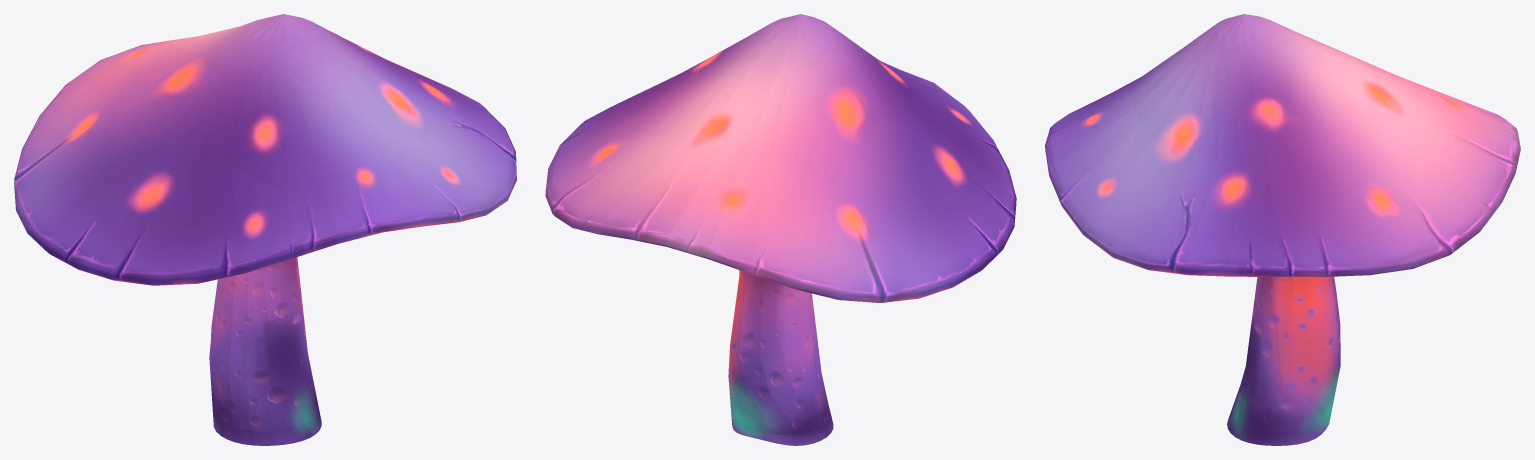
The model's file is mushroom-far.glb.
3 renders of one model, left to right at view 1: azimuth 30°, elevation 25°; view 2: azimuth 150°, elevation 25°; view 3: azimuth 270°, elevation 25°, orthographic. The views are drawn at different scales.
Parts seen in each view (by area): view 1: Circle_mushroms_0; view 2: Circle_mushroms_0; view 3: Circle_mushroms_0.
Part boxes in pixels (left/top/right/bottom): Circle_mushroms_0: left=14, top=14, right=516, bottom=445; Circle_mushroms_0: left=545, top=14, right=1016, bottom=445; Circle_mushroms_0: left=1045, top=14, right=1520, bottom=445.
Size of the model in its own units: 19.22 by 18 by 18.92.
1 material, 1 textured.
